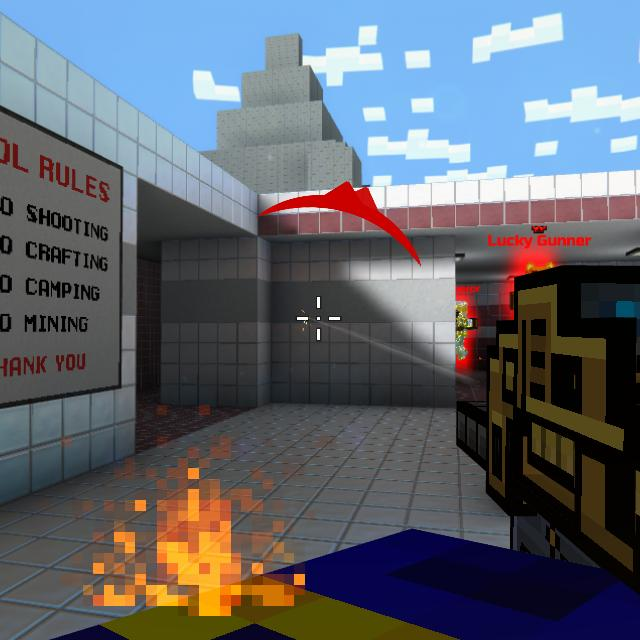Enemy: (455, 301, 477, 360), (511, 273, 525, 319), (519, 262, 553, 275)
